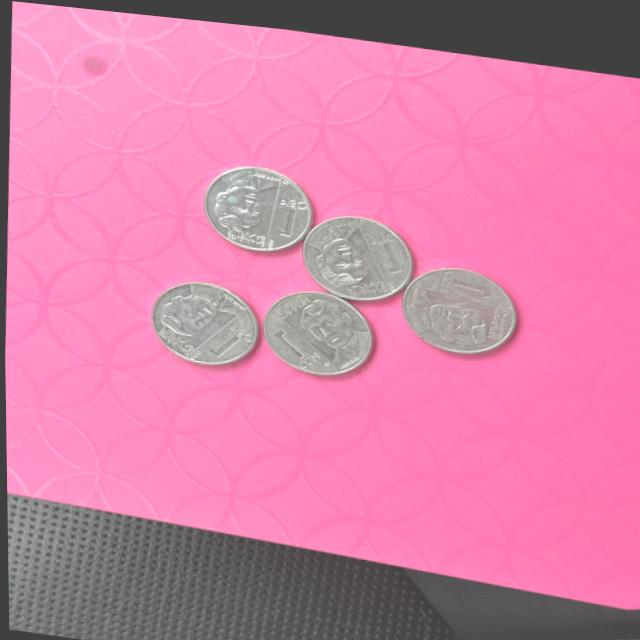1_New_Front: (263, 181, 314, 243), (199, 307, 250, 360), (363, 214, 401, 273), (431, 251, 490, 289), (266, 319, 316, 363)
